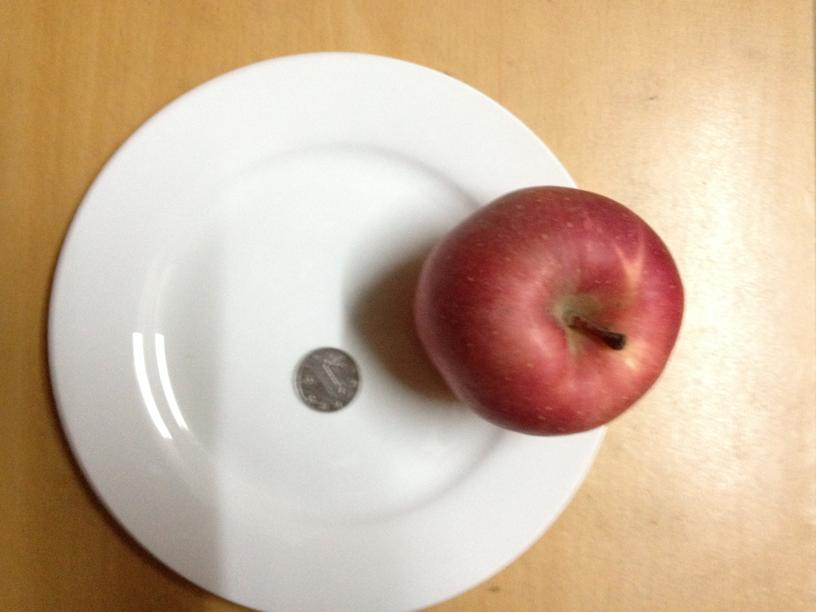apple: (418, 183, 683, 433)
coin: (295, 346, 360, 414)
